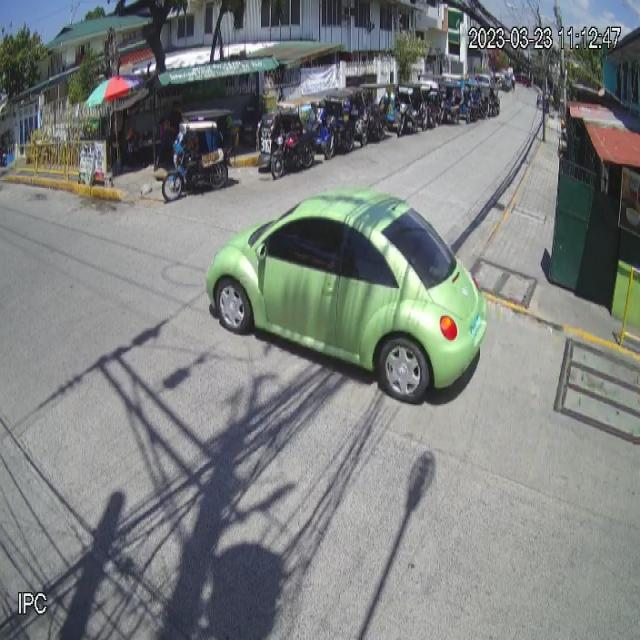Car: (205, 187, 490, 405)
